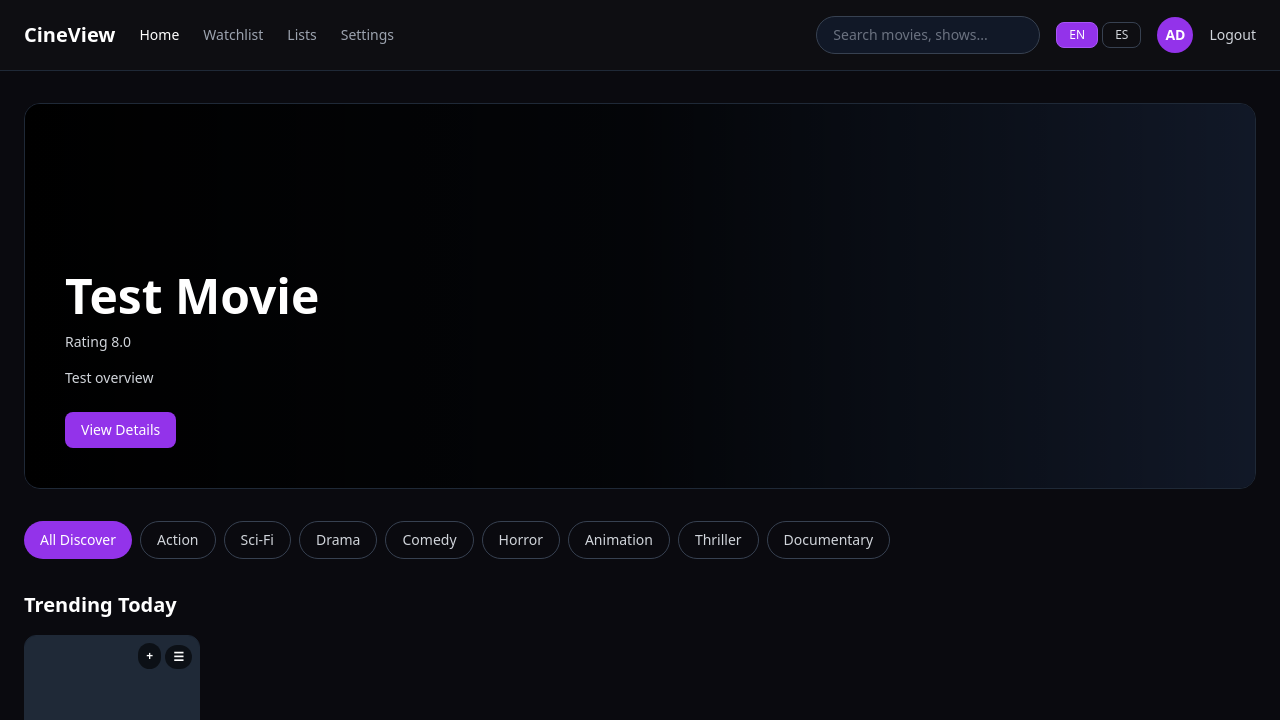
Milestone 2 authentication › logs out and returns to login
The image size is (1280, 720).
Click the button "Logout": (1233, 35) x1=1209 y1=25 x2=1256 y2=45
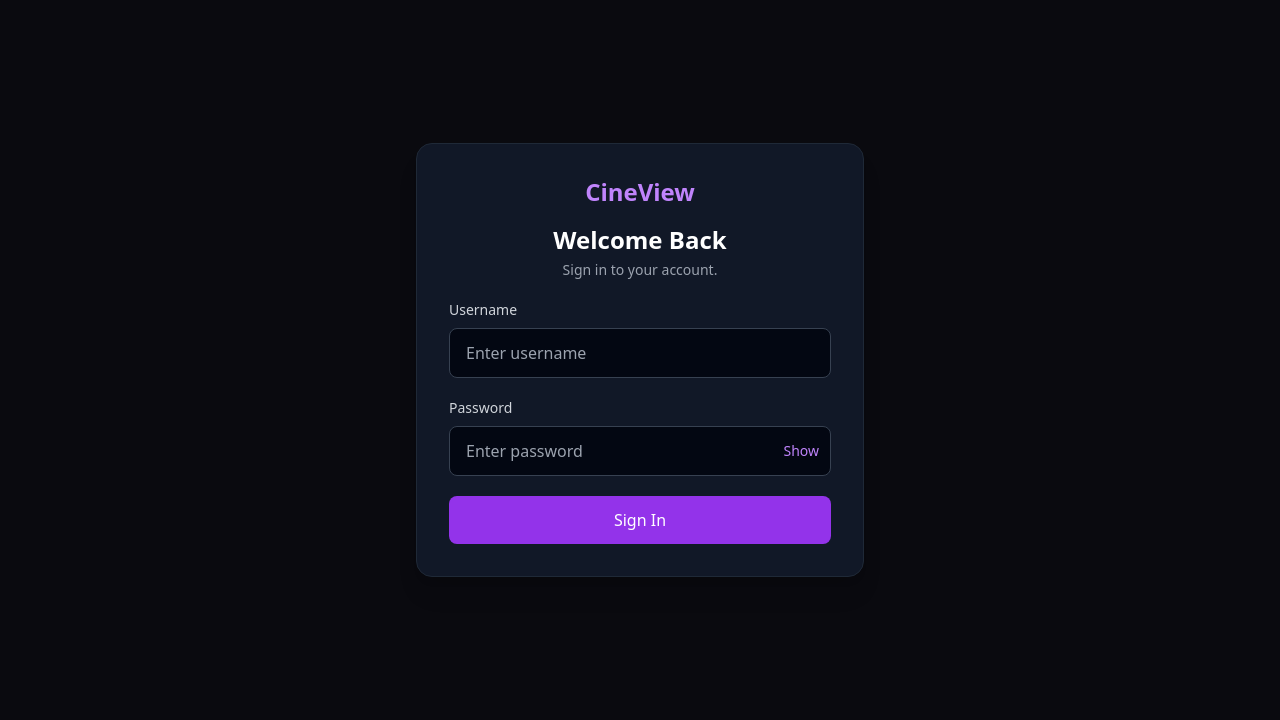
Now the heading "Welcome Back" is shown, box x1=553 y1=223 x2=727 y2=256
